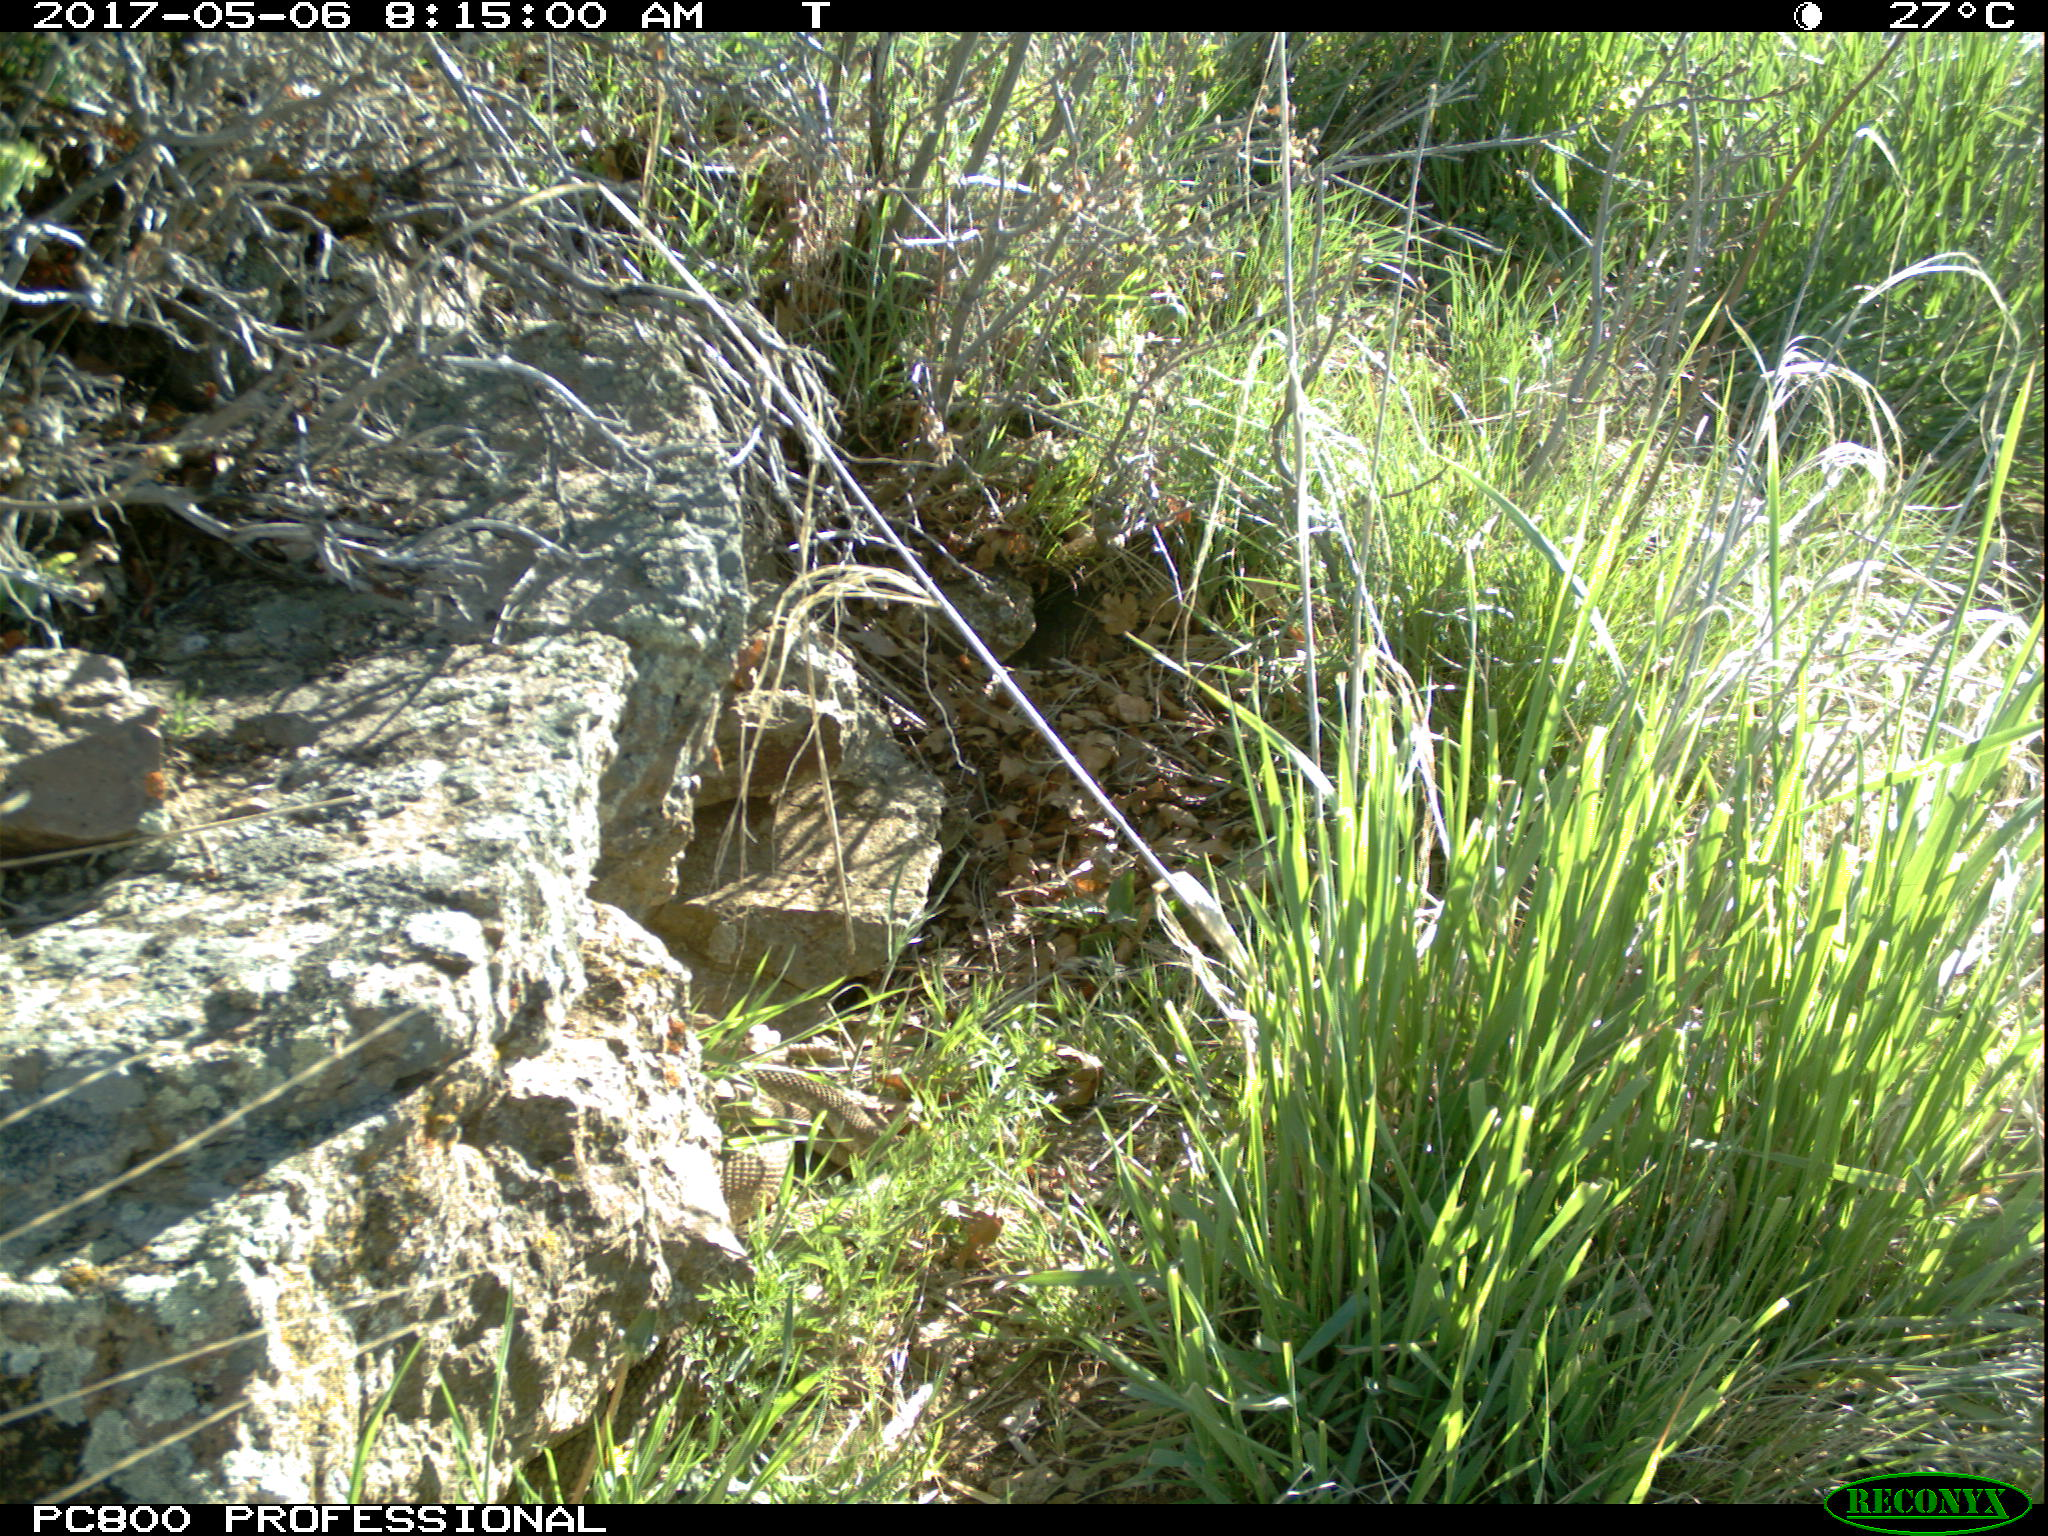snake: (708, 1055, 918, 1218), (537, 1359, 718, 1480)
